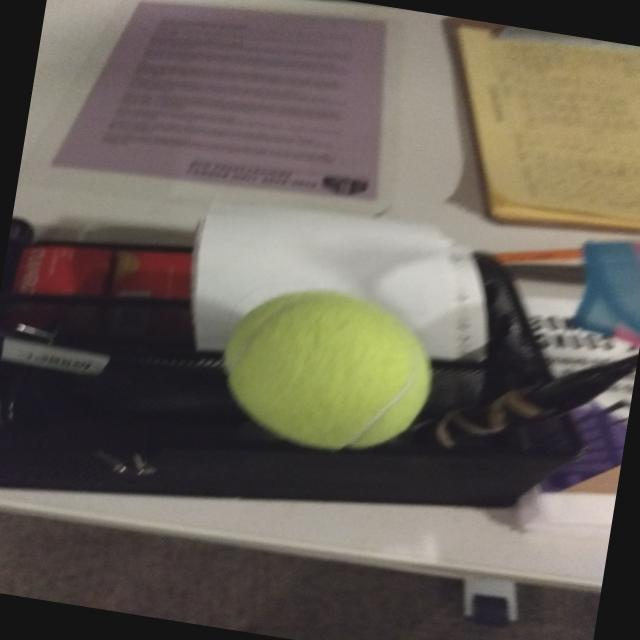Tennis Ball: (200, 274, 446, 468)
